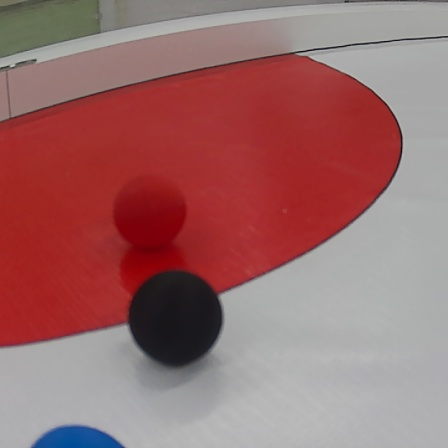black: (124, 270, 221, 369)
blue: (26, 423, 130, 448)
blue_base: (0, 51, 404, 334)
red: (107, 168, 187, 252)
